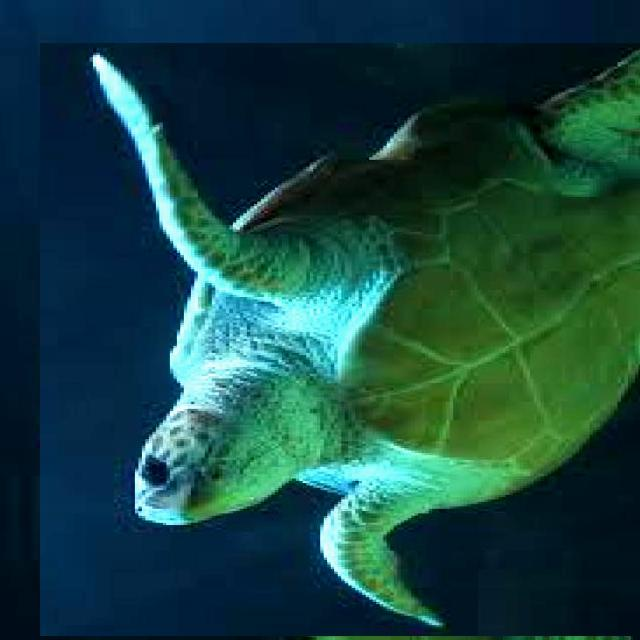Sea turtle: (42, 40, 640, 638)
